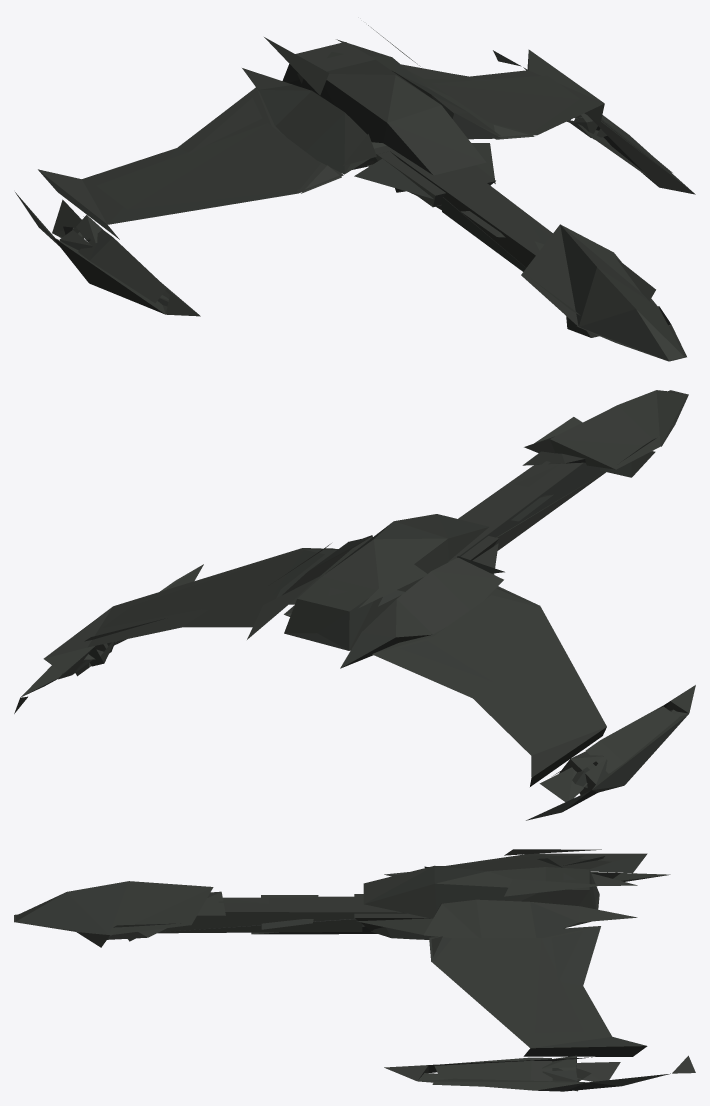
3 views of the same model, one above another, from view 1: azimuth 30°, elevation 25°; view 2: azimuth 150°, elevation 25°; view 3: azimuth 270°, elevation 25° (orthographic). The views are drawn at different scales.
Visible parts, largest first — view 1: D5_Class_D5_diffuse_1_0; view 2: D5_Class_D5_diffuse_1_0; view 3: D5_Class_D5_diffuse_1_0.
Boxes of the visible parts, x1,y1,x2,y2 form: D5_Class_D5_diffuse_1_0: (15,25,695,361); D5_Class_D5_diffuse_1_0: (14,390,695,820); D5_Class_D5_diffuse_1_0: (14,849,695,1091).
Bounding box in the file's own units: 483 × 138 × 653.
1 material, 1 textured.
